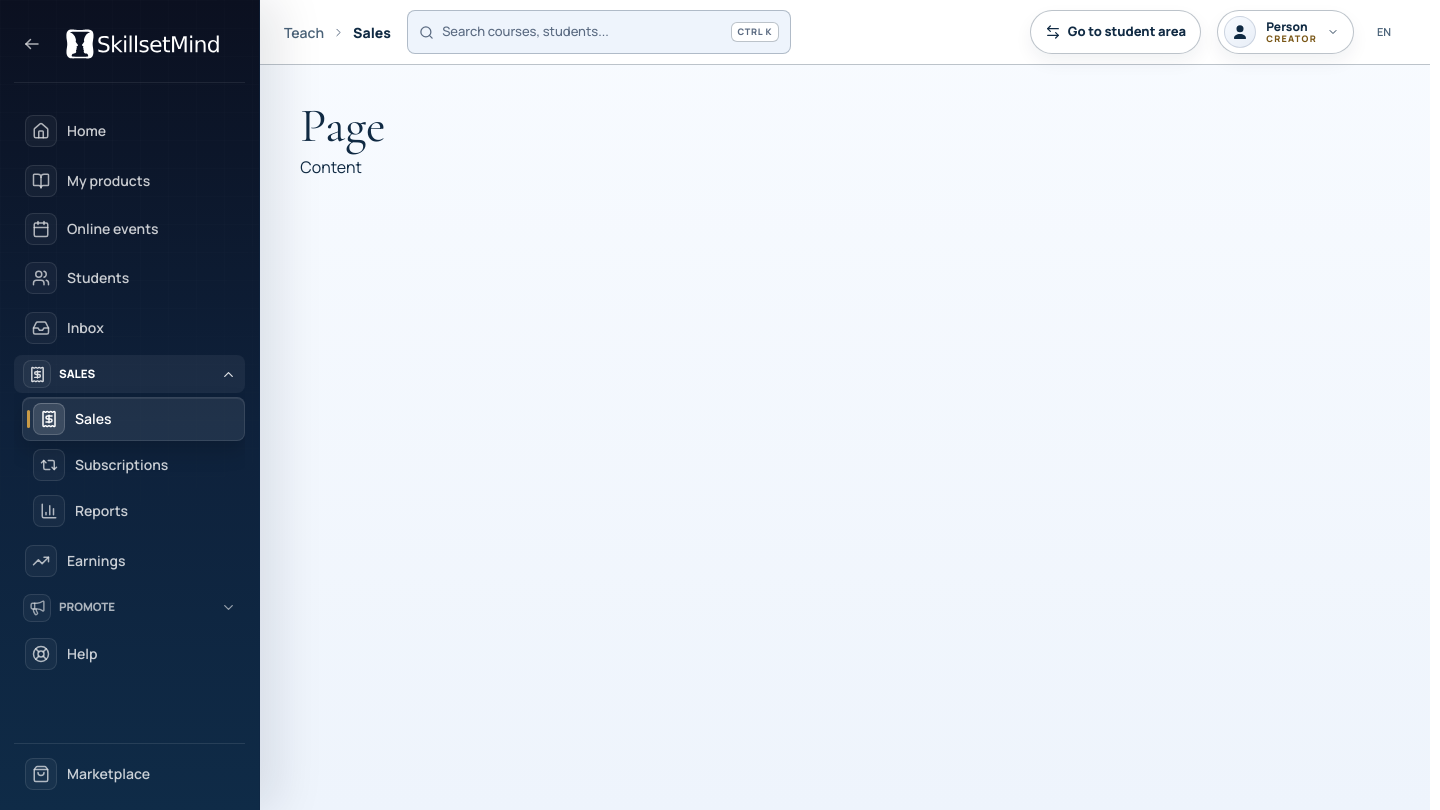
uma Ajuda por tela › estudio: so a da barra lateral, nem no topo nem no menu da conta
Expected: the number of buttons "Help" is 1, 14,632 -> 245,676
Note: Com o menu da conta aberto, continua uma so.
Click the button with aria-label "Open account menu".
click(1286, 32)  # box 1217,10 -> 1354,54
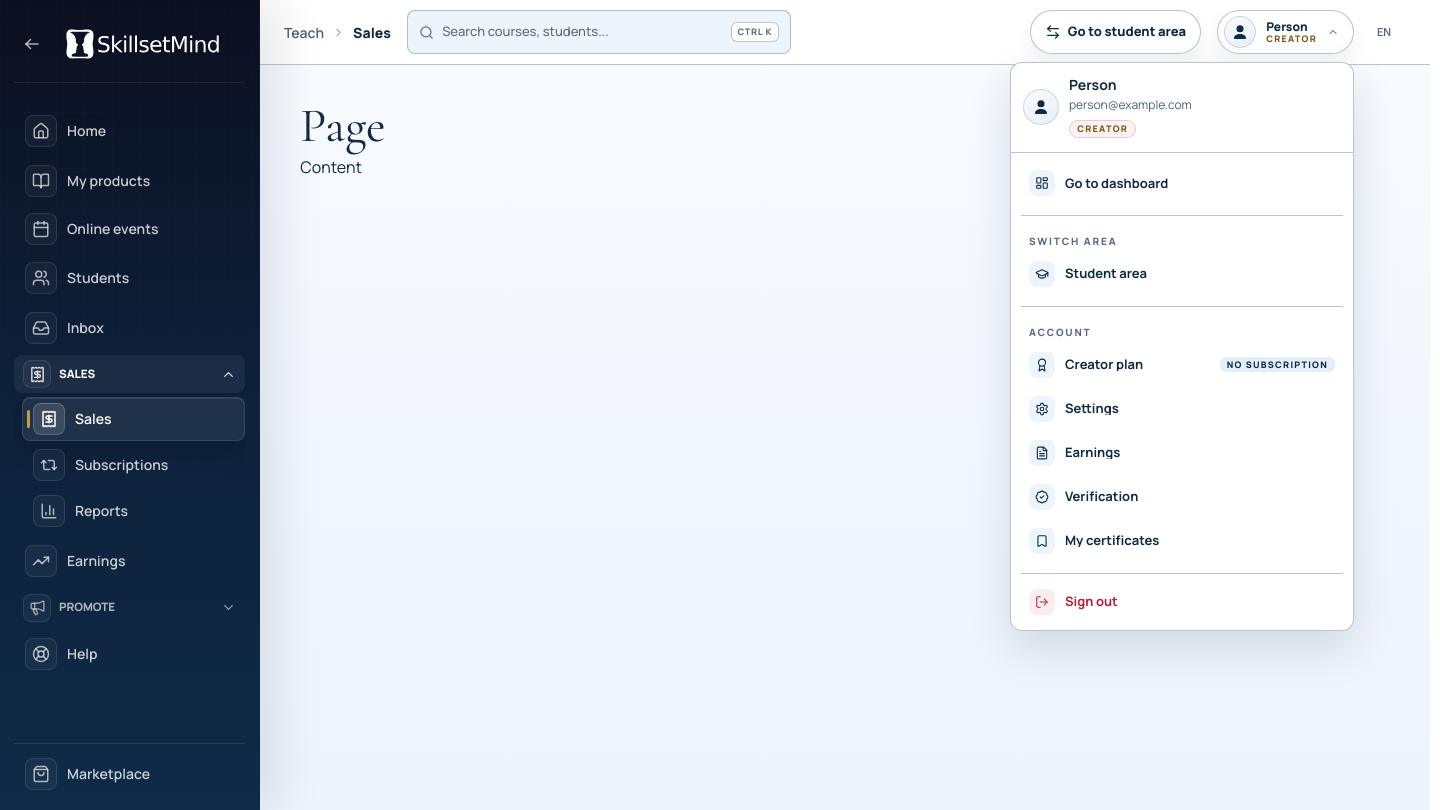
Click the button "Help".
click(130, 654)  # box 14,632 -> 245,676
(page scrolled)
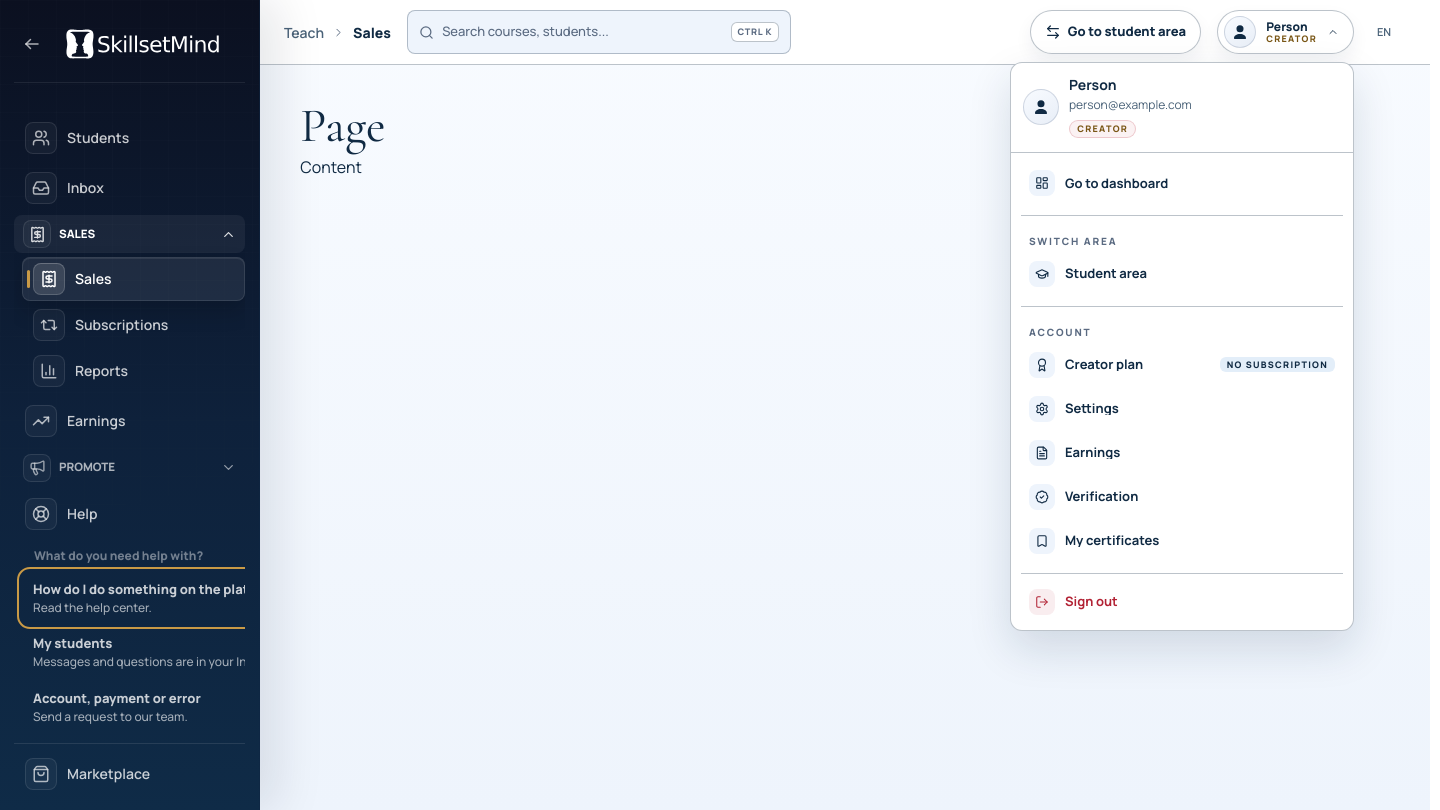
Expected: the dialog "What do you need help with?" shows "My students", 22,626 -> 245,679
